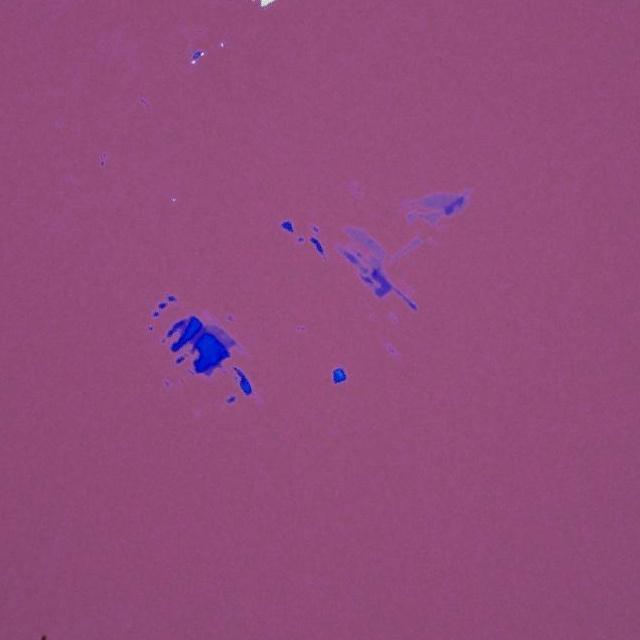monolayer-eWW4: (343, 226, 387, 261), (417, 192, 458, 208), (414, 210, 442, 224)
